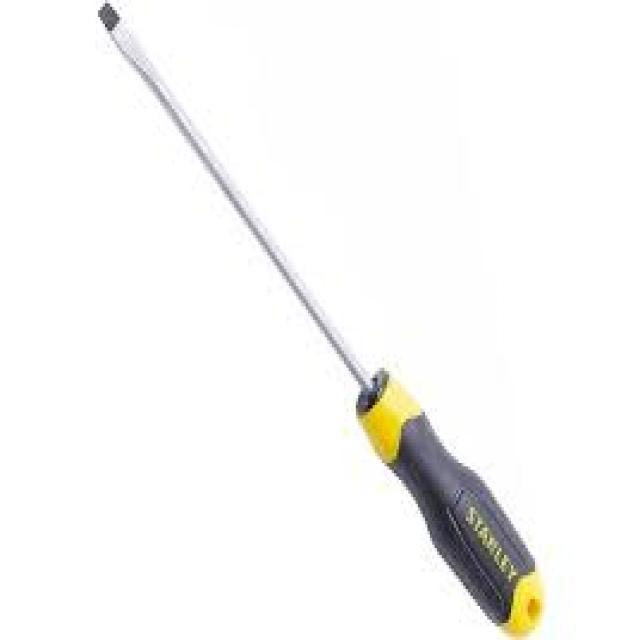screwdriver: (95, 0, 547, 637)
